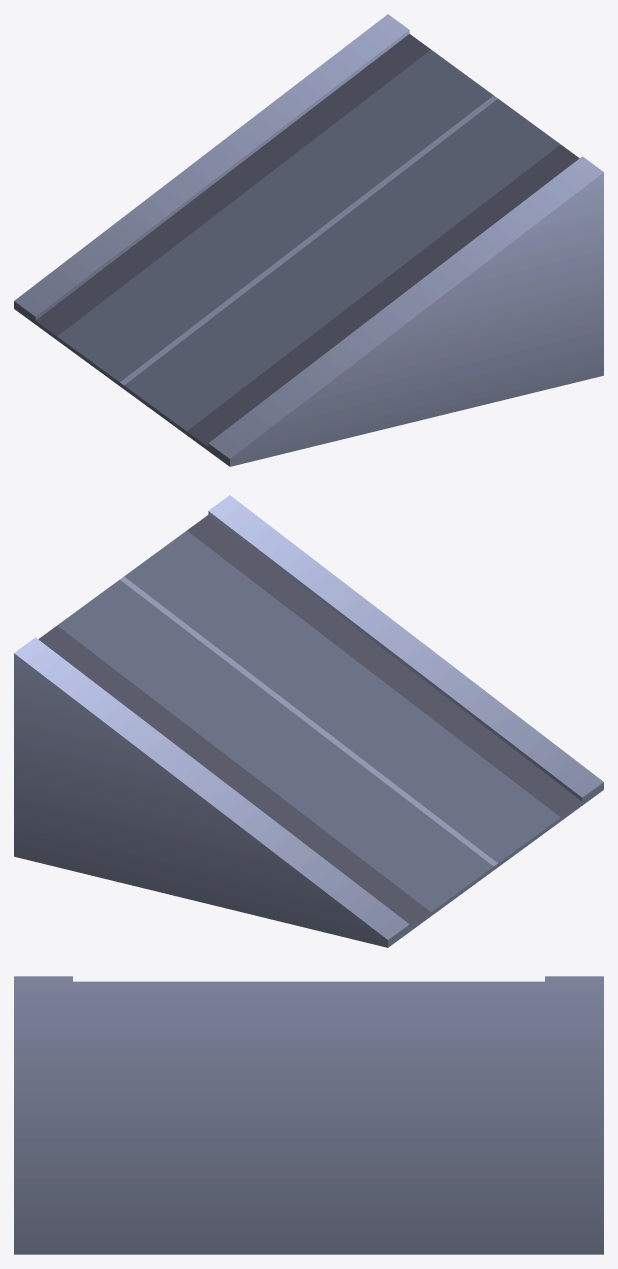
Rendered from road-slant-high.glb.
3 views of the same model, one above another, from view 1: azimuth 30°, elevation 25°; view 2: azimuth 150°, elevation 25°; view 3: azimuth 270°, elevation 25° (orthographic). The views are drawn at different scales.
Parts seen in each view (by area): view 1: road-slant-high; view 2: road-slant-high; view 3: road-slant-high.
Boxes of the visible parts, x1,y1,x2,y2 form: road-slant-high: (14, 14, 603, 466); road-slant-high: (14, 495, 603, 947); road-slant-high: (14, 976, 603, 1254).
Bounding box in the file's own units: 1 × 0.52 × 1.
1 material, 1 textured.
